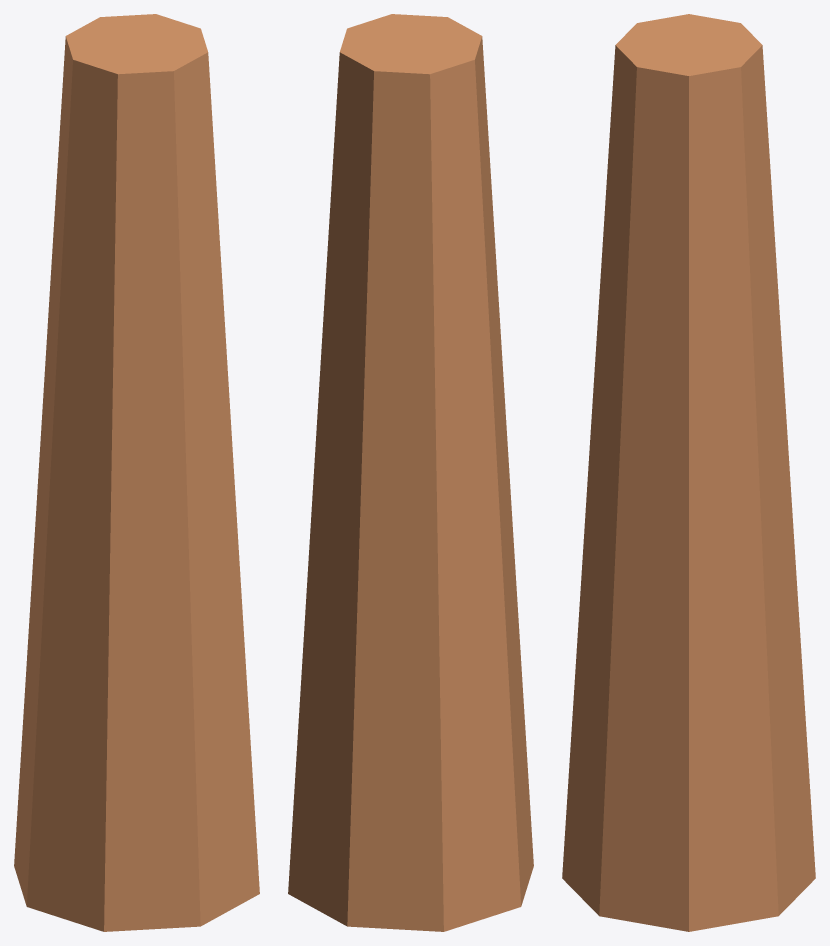
File: wk_soft_tissue_thigh_v01.glb
The picture shows the model from 3 angles, left to right: view 1: azimuth 30°, elevation 25°; view 2: azimuth 150°, elevation 25°; view 3: azimuth 270°, elevation 25°; orthographic projection.
Parts seen in each view (by area): view 1: GEO_SoftTissue_thigh; view 2: GEO_SoftTissue_thigh; view 3: GEO_SoftTissue_thigh.
Part boxes in pixels (x1,y1,x2,y2): GEO_SoftTissue_thigh: (14, 14, 259, 931); GEO_SoftTissue_thigh: (288, 14, 533, 931); GEO_SoftTissue_thigh: (562, 14, 815, 931).
Bounding box in the file's own units: 0.276 × 1 × 0.276.
